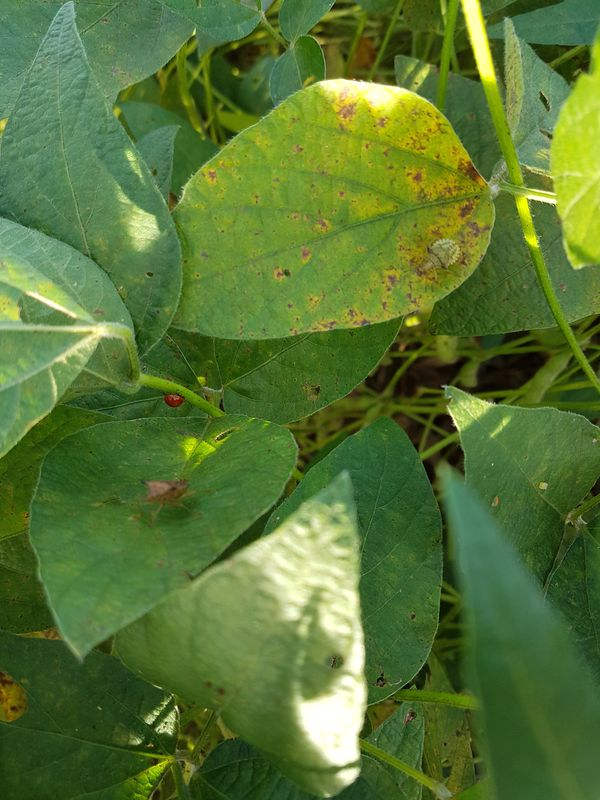Coccinellidae: (153, 385, 189, 417)
Euschistus_heros_adulto: (128, 465, 212, 535)
Euschistus_heros_ninfa: (416, 228, 470, 283)
